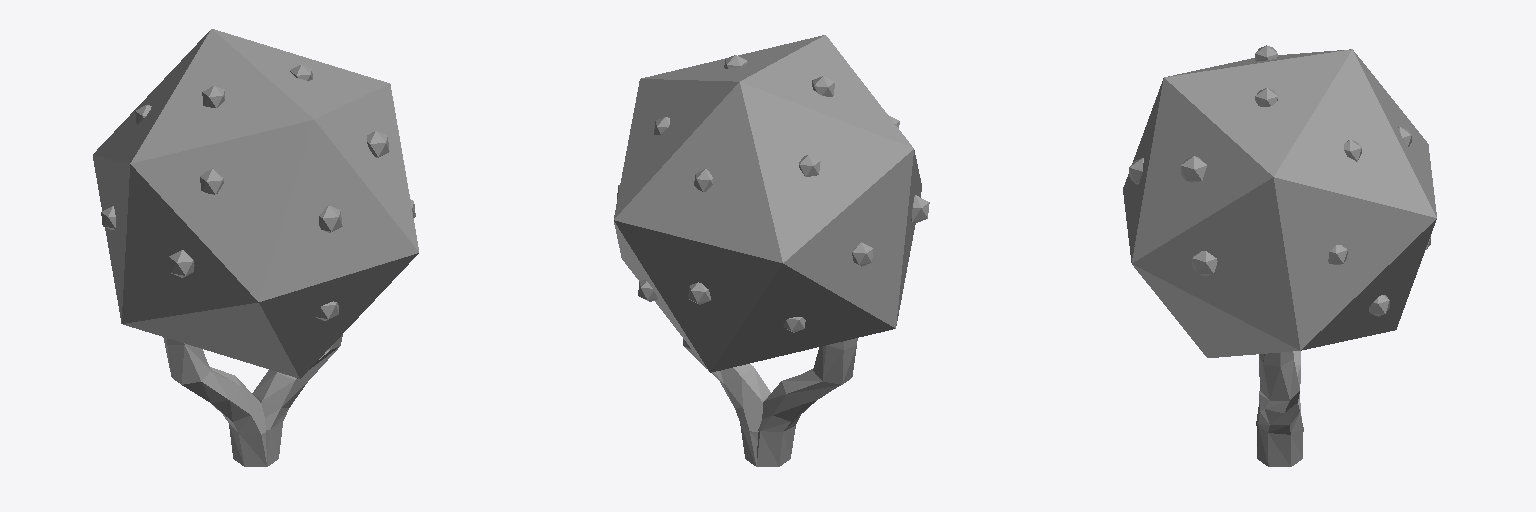
The model's file is Bush2With.obj.
3 views of the same model, side by side, from view 1: azimuth 30°, elevation 25°; view 2: azimuth 150°, elevation 25°; view 3: azimuth 270°, elevation 25° (orthographic).
Visible parts, largest first — view 1: Cylinder.003; view 2: Cylinder.003; view 3: Cylinder.003.
Part boxes in pixels (bbox=[...]): Cylinder.003: bbox=[93, 29, 418, 466]; Cylinder.003: bbox=[614, 35, 929, 466]; Cylinder.003: bbox=[1123, 45, 1436, 466].
Bounding box in the file's own units: 0.66 × 0.9408 × 0.6608.